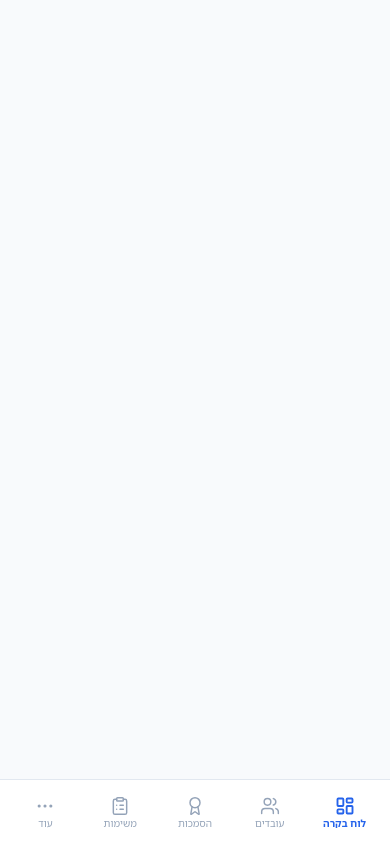
Test: Sidebar — sheet close triggers › closes sheet on Escape key
Click the button with aria-label "עוד אפשרויות ניווט": click(45, 812) [8,790,83,834]
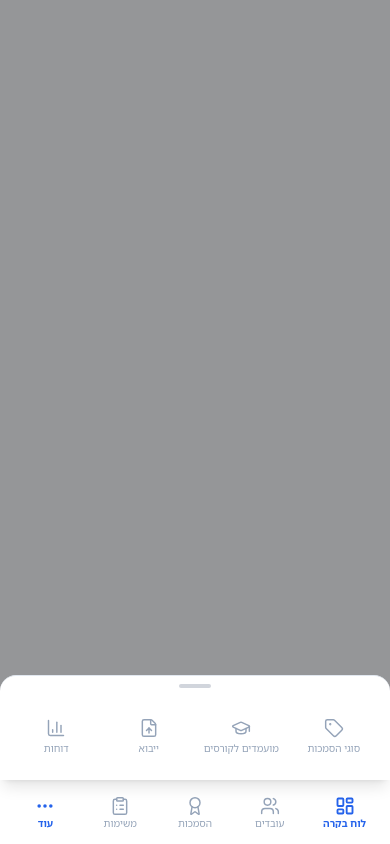
Check: the dialog named "ניווט משני" is shown, box [0,675,389,780]
Press Escape
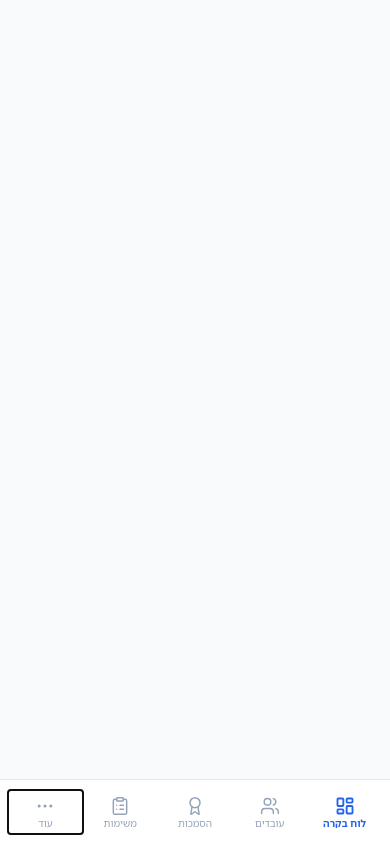
Check: the button with aria-label "עוד אפשרויות ניווט" is collapsed, box [8,790,83,834]
